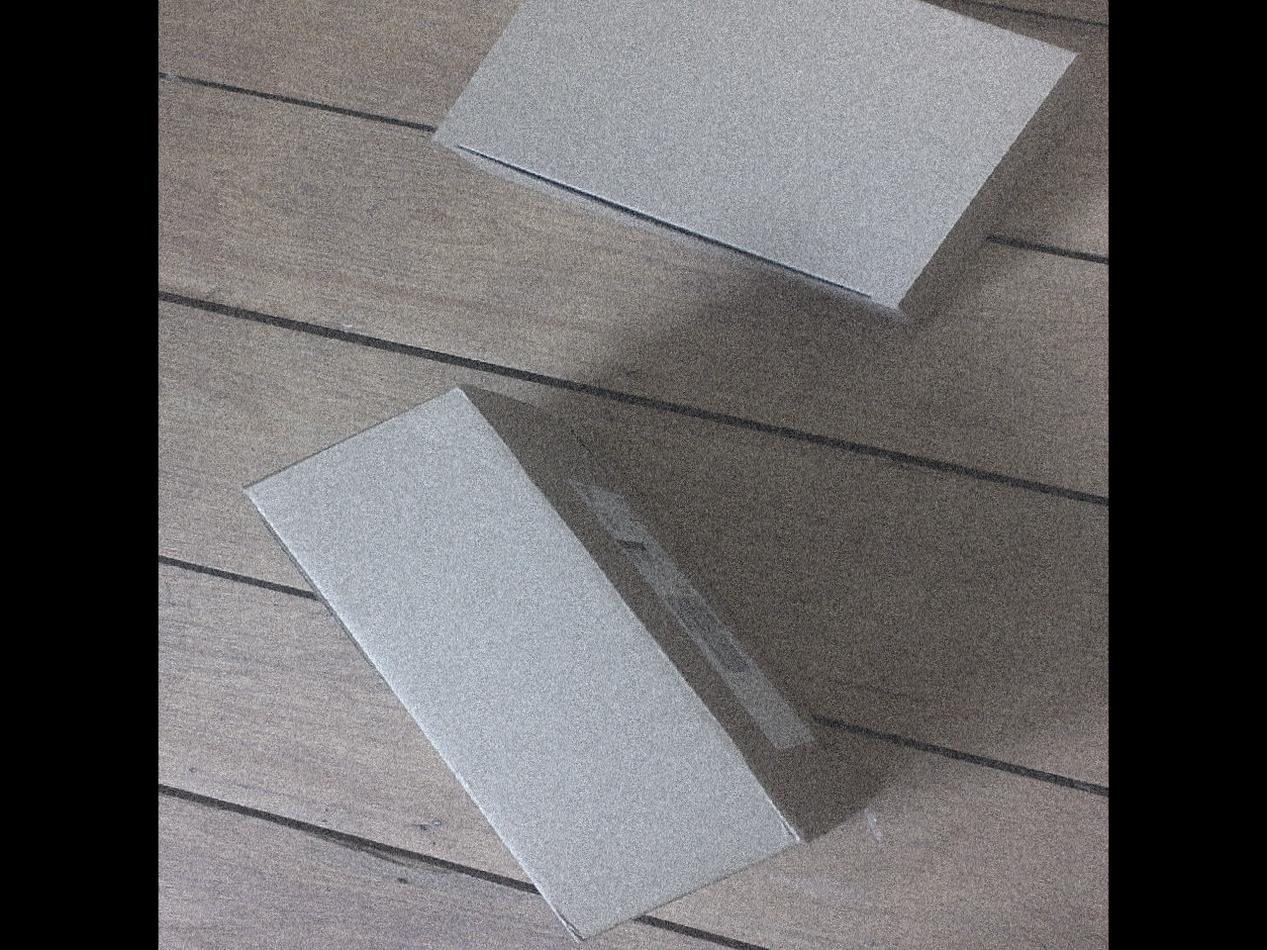good-parcel: (240, 378, 871, 943), (407, 0, 1244, 338)
